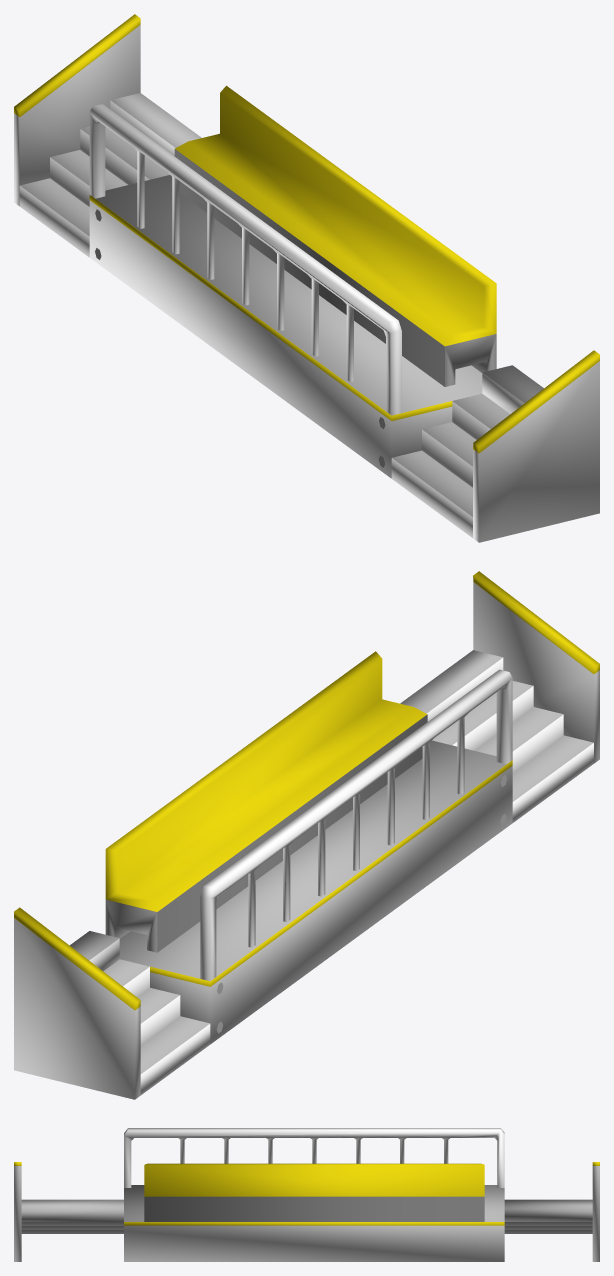
Rendered from TrackStand.fbx.
3 renders of one model, top to bottom at view 1: azimuth 30°, elevation 25°; view 2: azimuth 150°, elevation 25°; view 3: azimuth 270°, elevation 25°, orthographic. The views are drawn at different scales.
Parts seen in each view (by area): view 1: Build_TrackStand; view 2: Build_TrackStand; view 3: Build_TrackStand.
Part boxes in pixels (box(x1,y1,x2,y2)): Build_TrackStand: box(14, 14, 599, 542); Build_TrackStand: box(14, 571, 599, 1099); Build_TrackStand: box(14, 1128, 599, 1261).
Bounding box in the file's own units: 4002 × 602 × 754.
